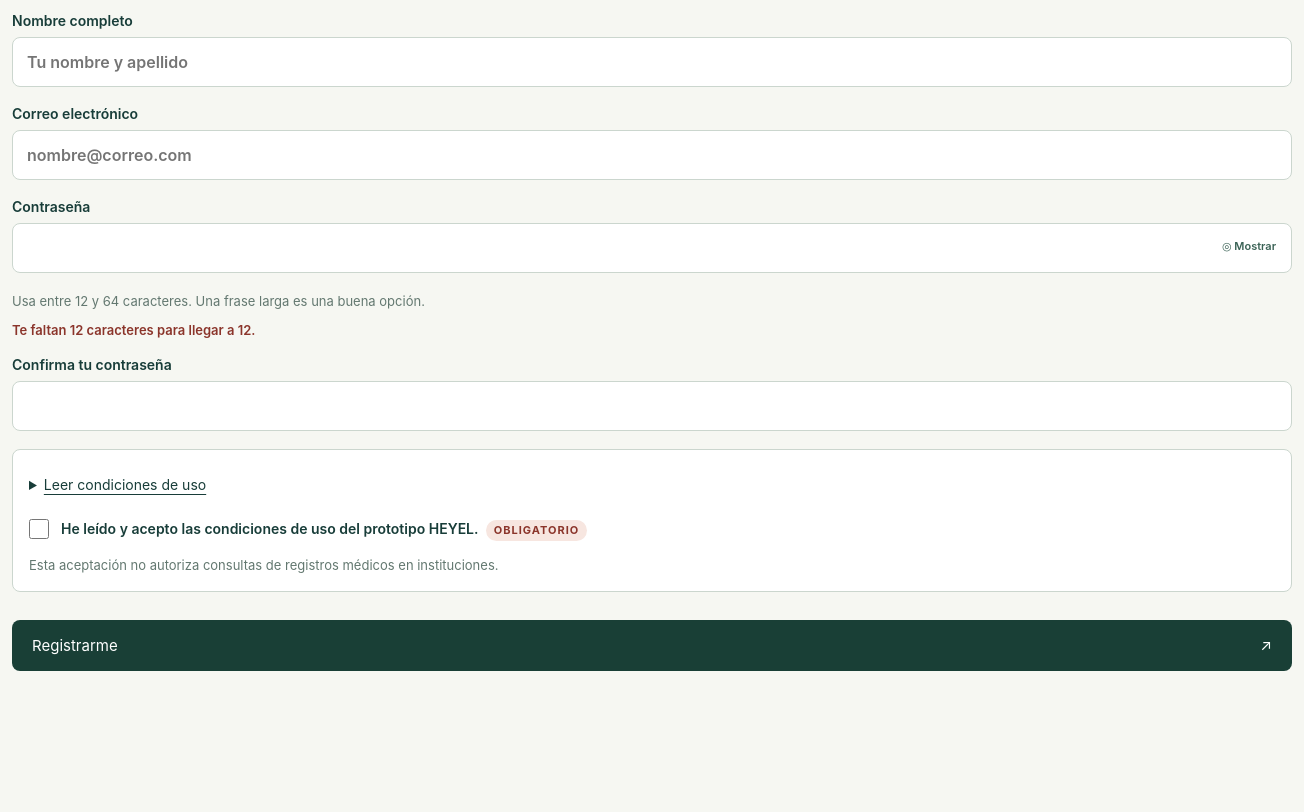
Test: Registro según el ajuste de roadmap › muestra el rechazo de términos de la API junto a la casilla
The image size is (1304, 812).
In the field labelled "Nombre completo": coordinates (652, 62) [12,37,1292,87], type "Ana Pérez"
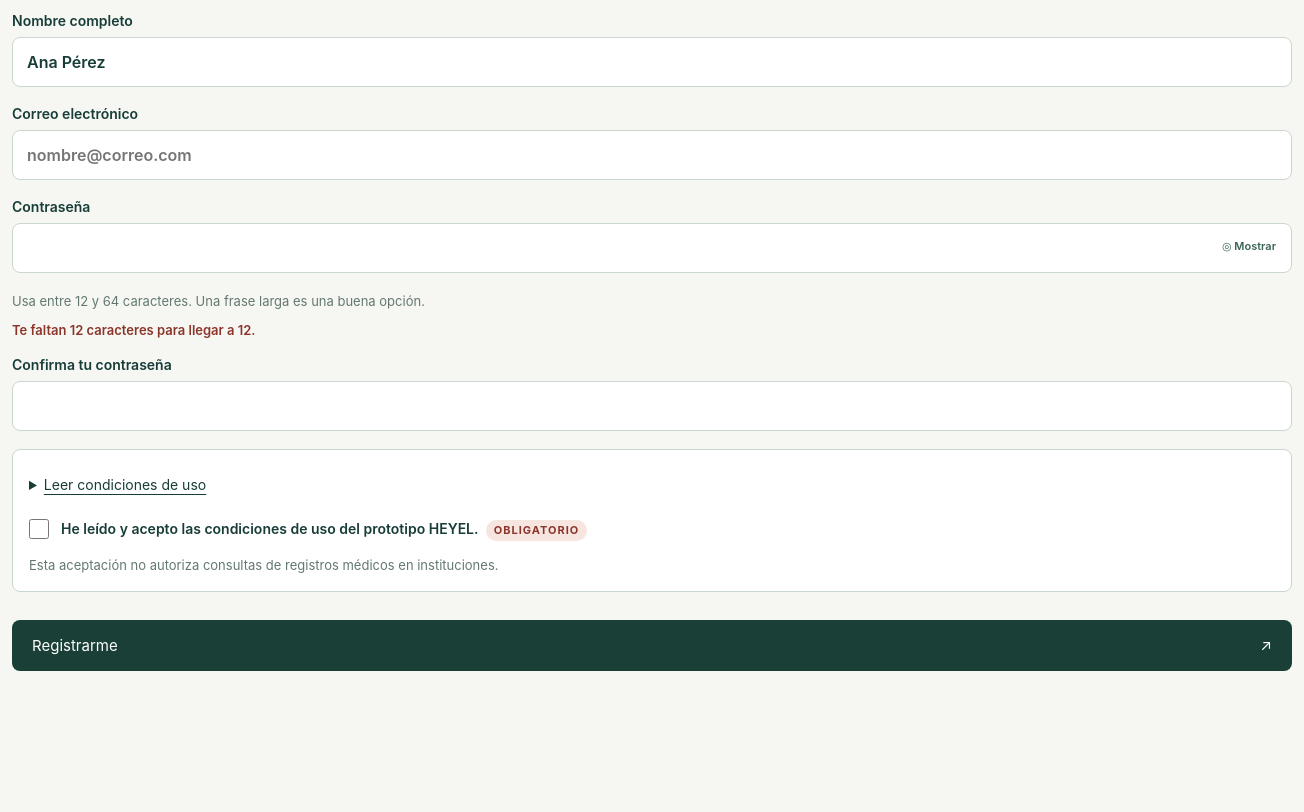
In the field labelled "Correo electrónico": coordinates (652, 155) [12,130,1292,180], type "ana@example.com"
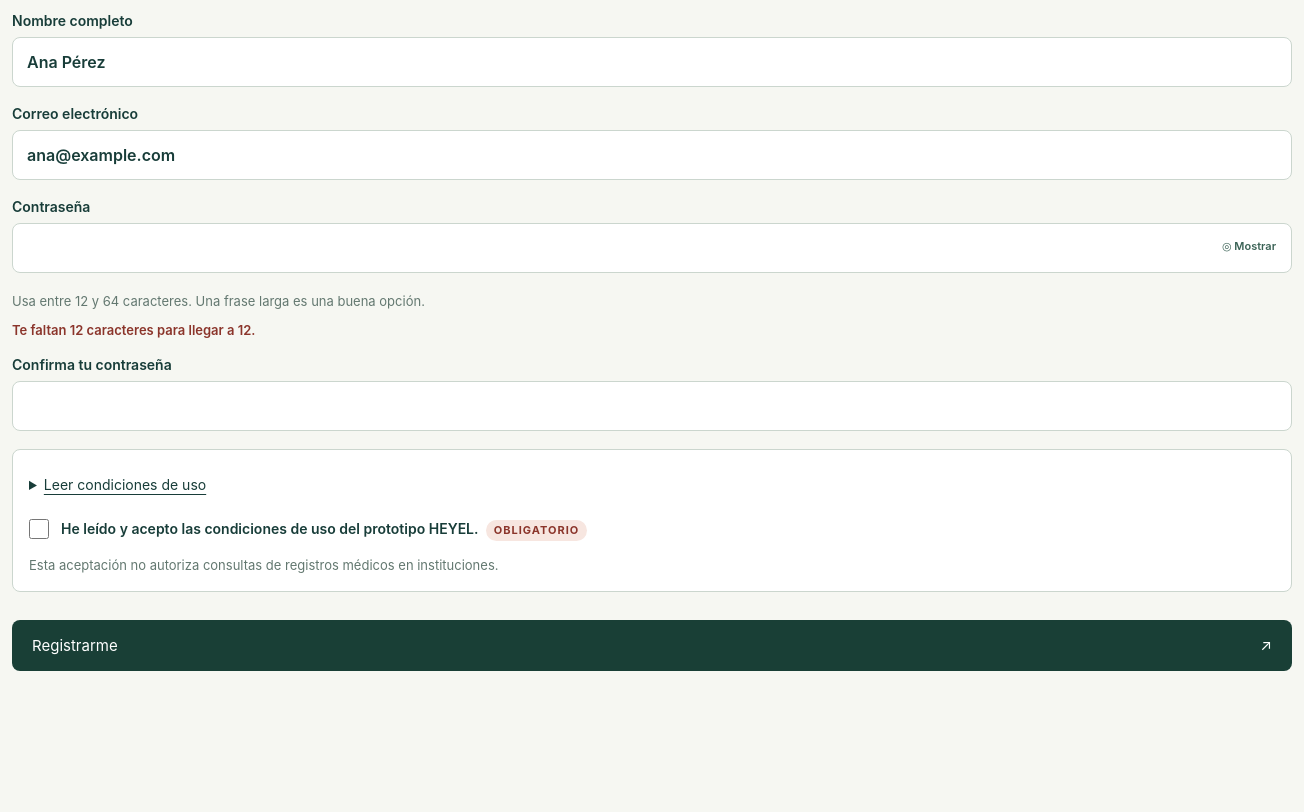
In the password field labelled "Contraseña": coordinates (652, 248) [12,223,1292,273], type "Una frase segura 123"
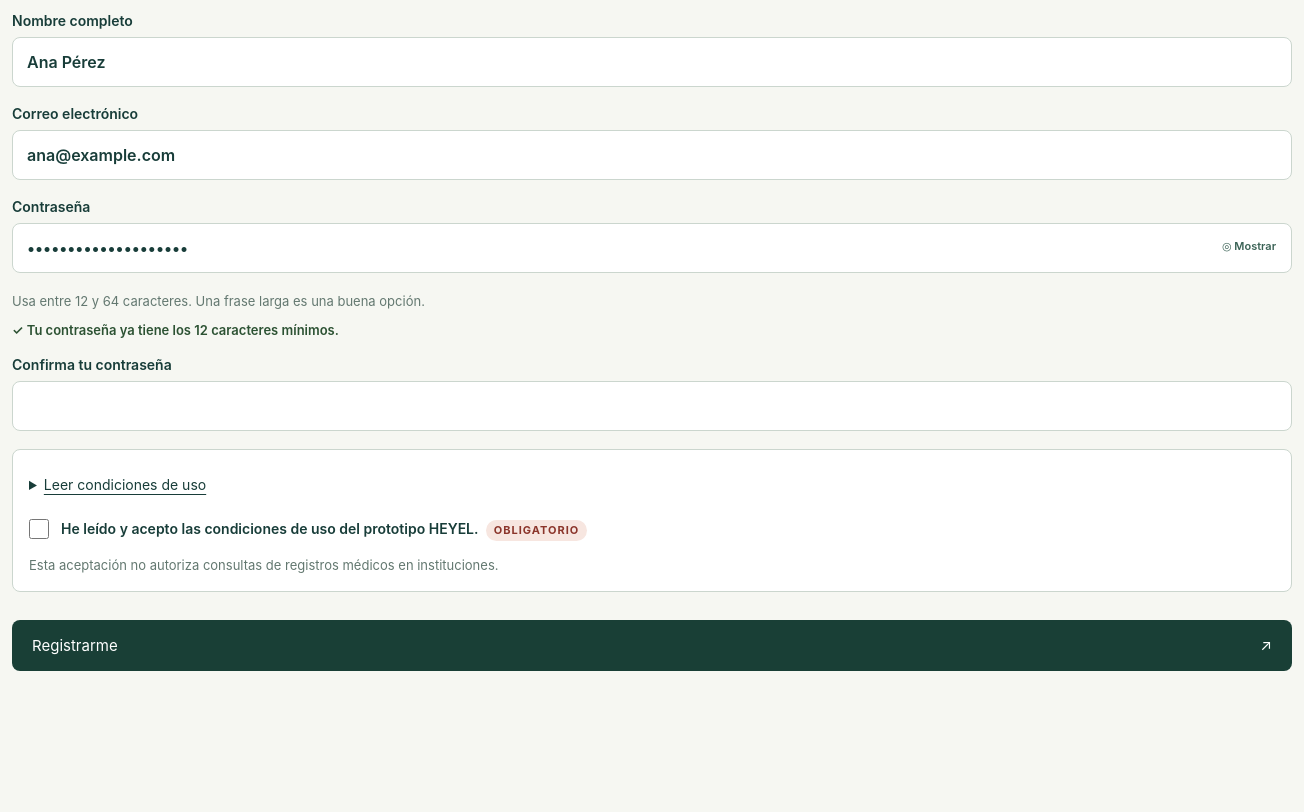
In the password field labelled "Confirma tu contraseña": coordinates (652, 406) [12,381,1292,431], type "Una frase segura 123"
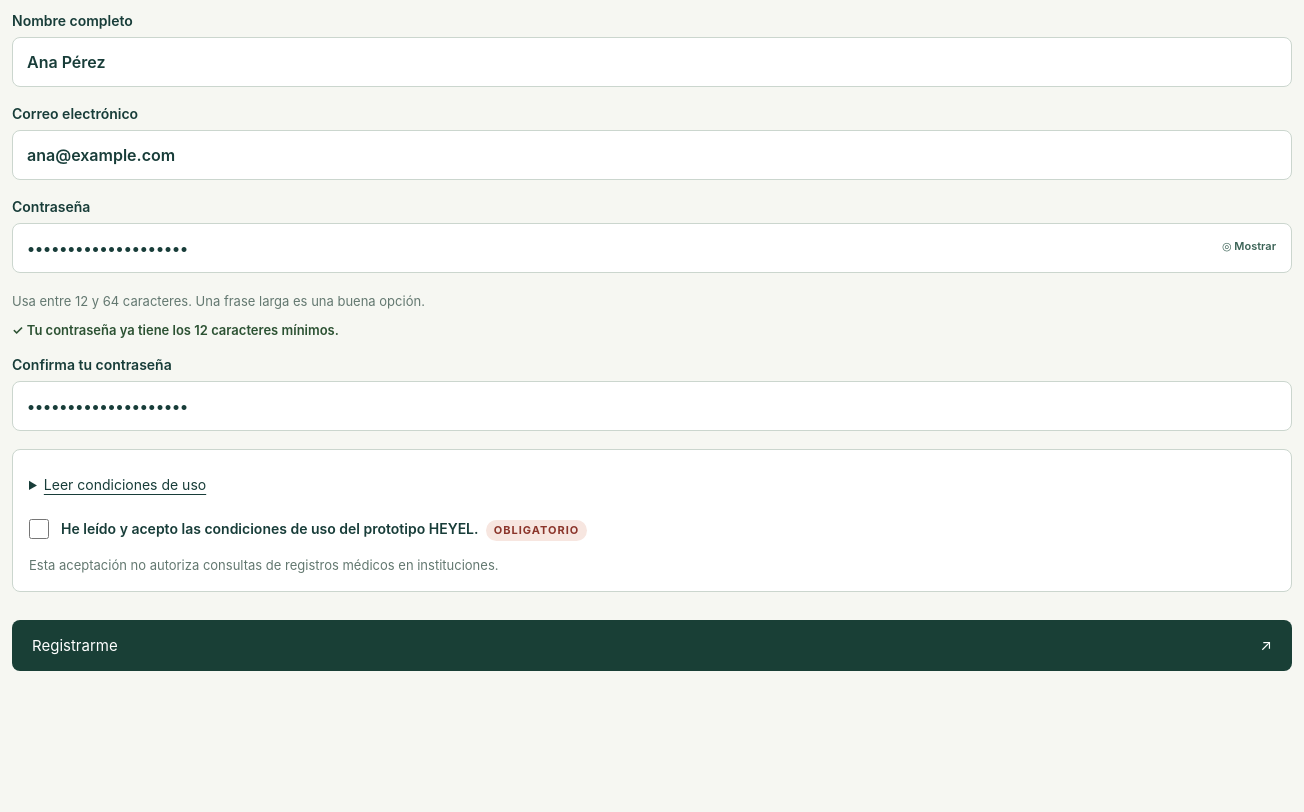
Click the checkbox: coordinates (39, 529) [29,519,49,539]
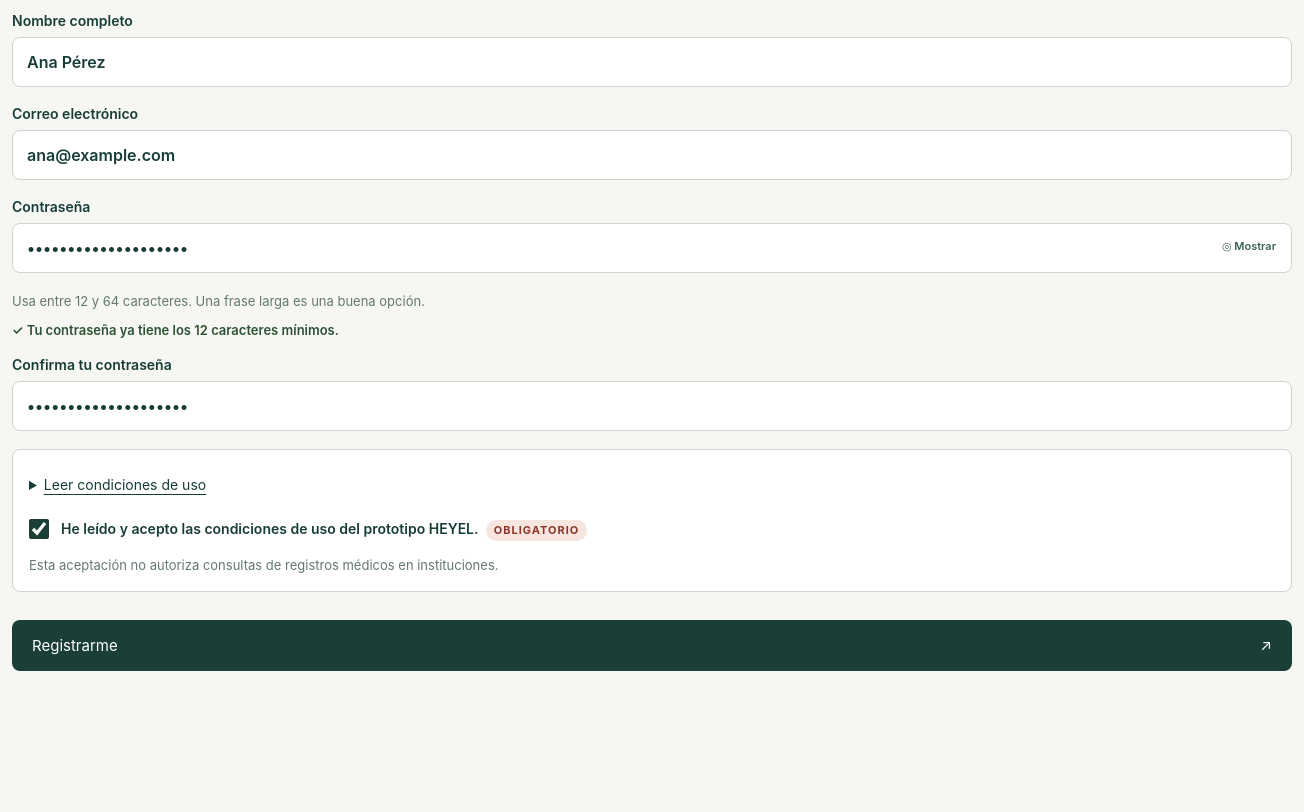
Submit the form
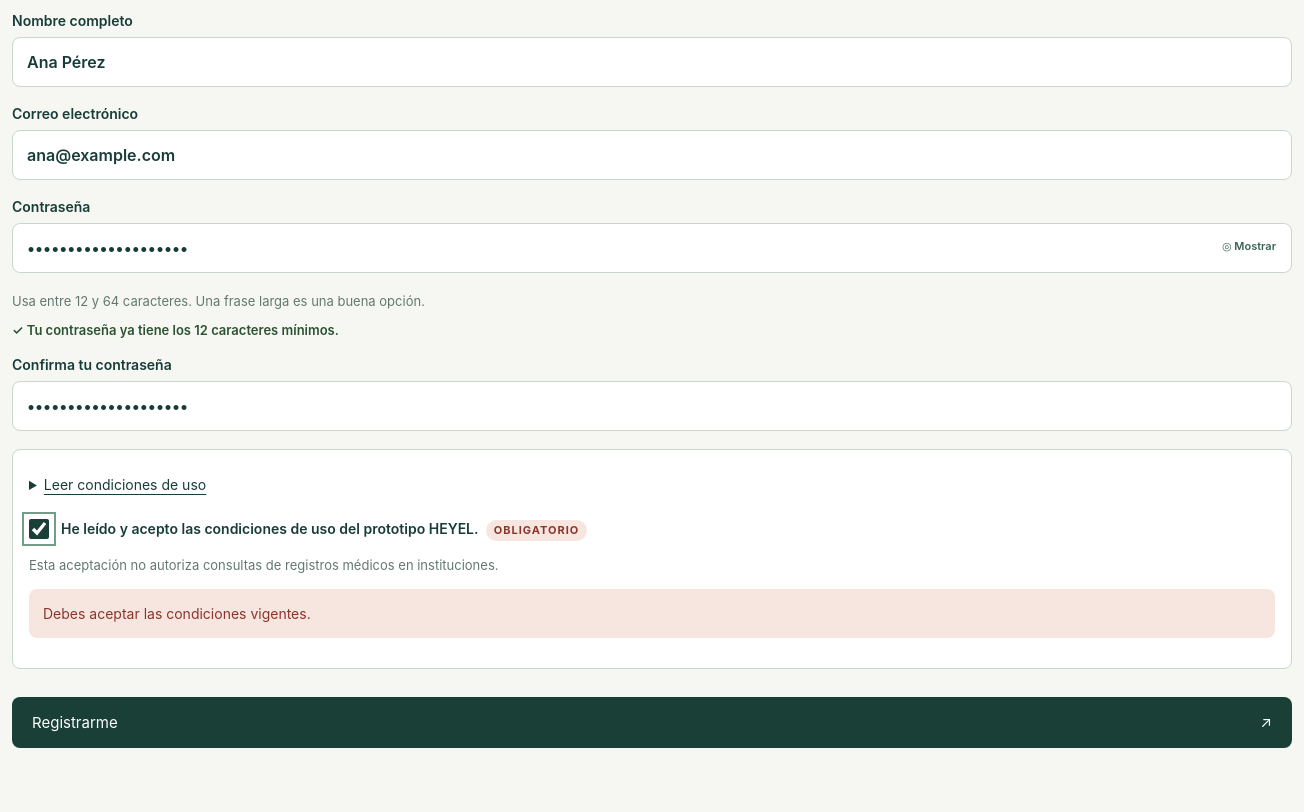
expect the message shows "condiciones vigentes": met, box [43,606,311,622]
